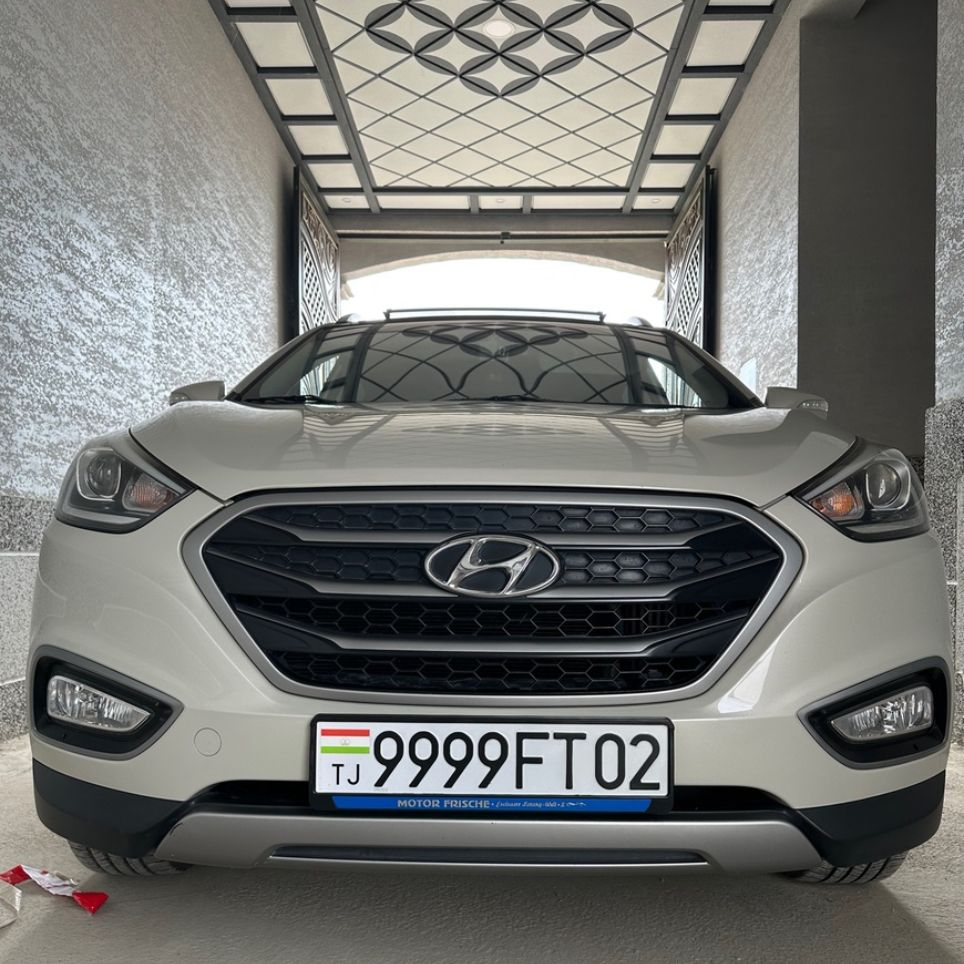license plate: (313, 712, 670, 804)
truck: (26, 301, 954, 906)
